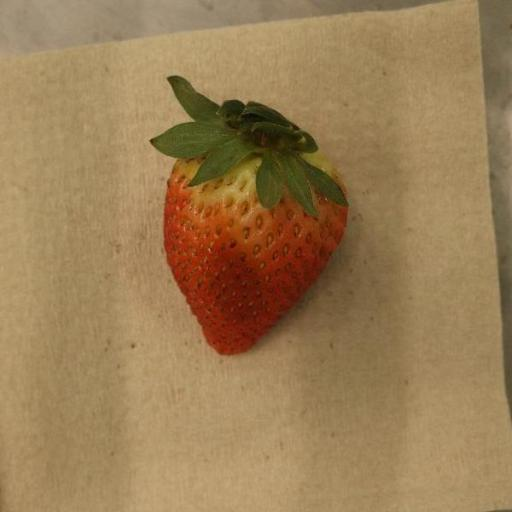Strawberry: (151, 76, 349, 357)
